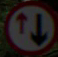Two way: (9, 5, 52, 48)
